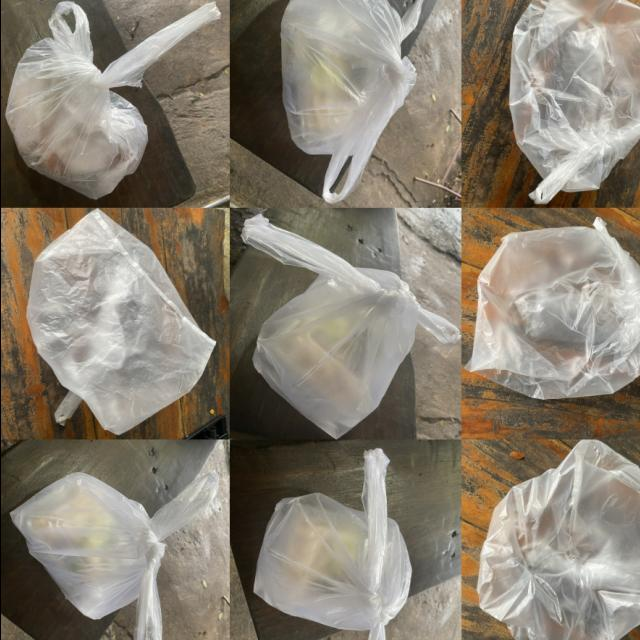plastik: (241, 215, 459, 439), (26, 208, 214, 435), (6, 2, 220, 199), (10, 472, 217, 640), (477, 440, 640, 640), (465, 218, 640, 400), (254, 449, 411, 640), (280, 0, 422, 203), (509, 0, 640, 204)
